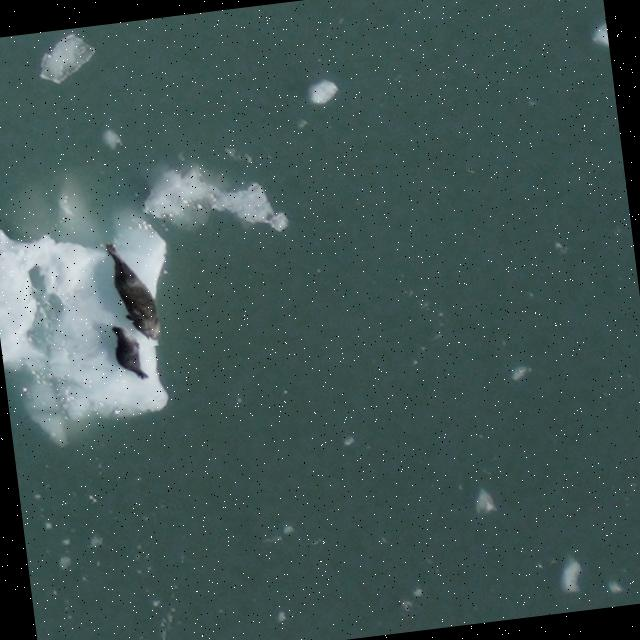seal: (97, 232, 163, 350), (107, 320, 152, 387)
